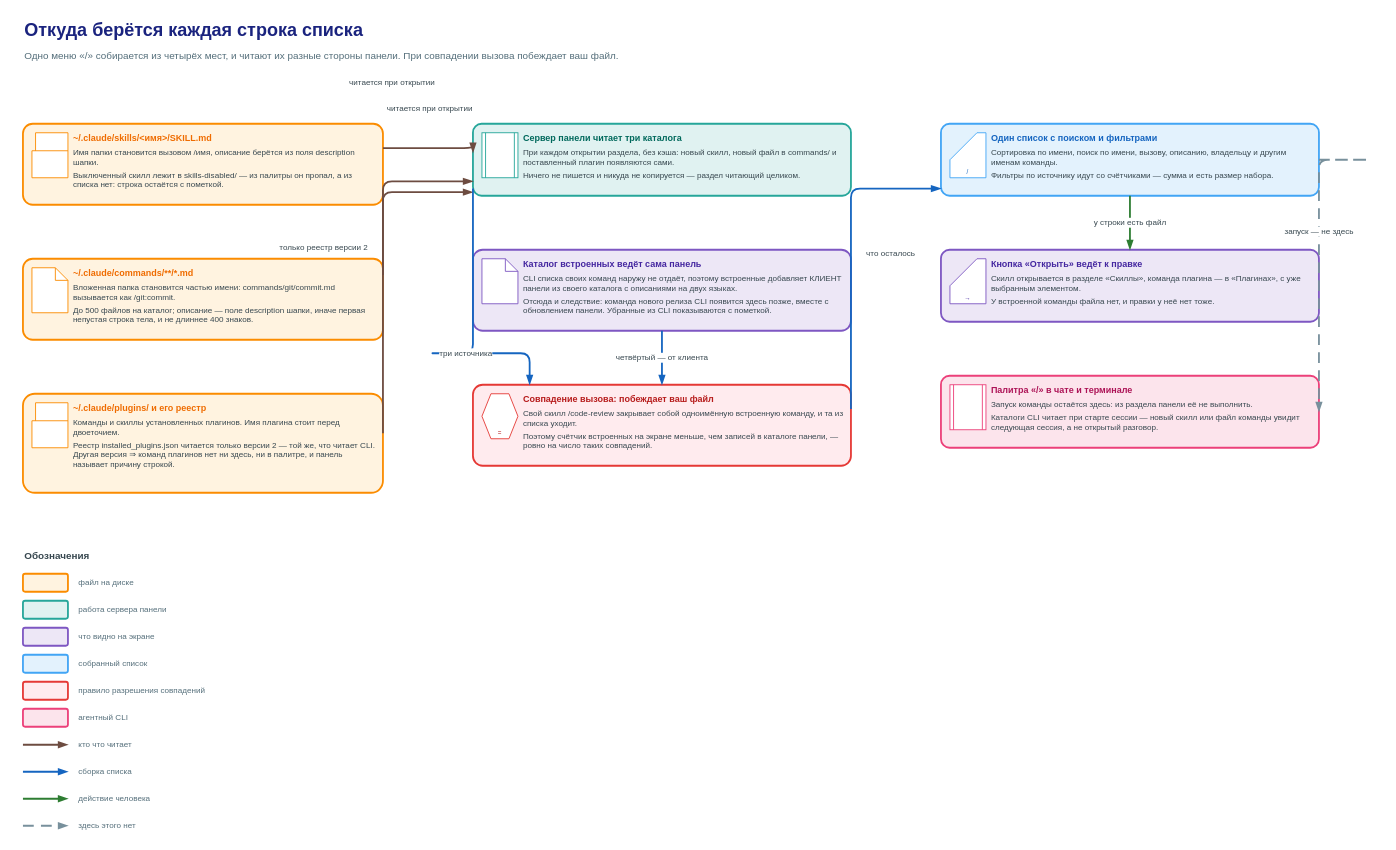
Image size: 1396x850. Some labels were removed from this diagram. The shapes that lost their labels are listed below. From the top down, each one's centre as x and y in pixels, then its label:
At pixel 49 155: "skills".
At pixel 499 155: "API".
At pixel 49 290: "md".
At pixel 499 281: "ts".
At pixel 49 425: "plug".
At pixel 967 407: "CLI".
